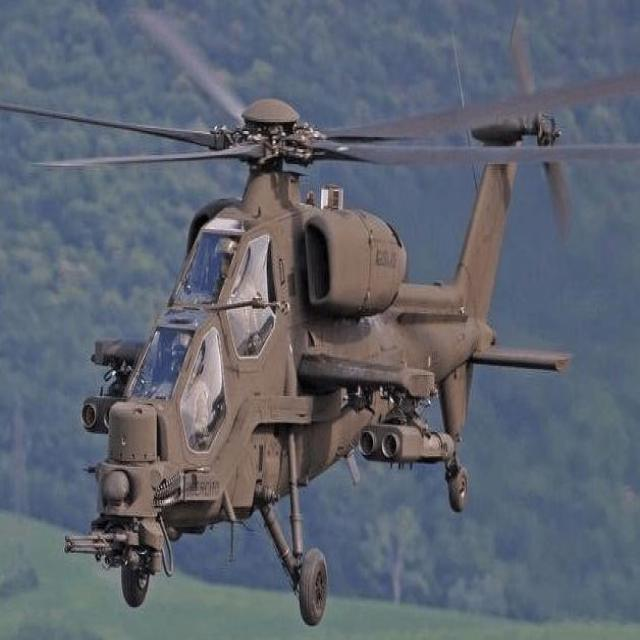MIL_HELO: (0, 56, 638, 635)
